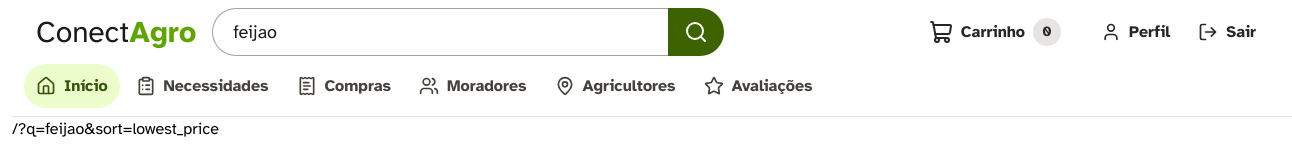
Test: HeaderSearch › keeps the order and the filters chosen in the catalog
This screenshot has width=1292, height=160.
Replace the text in the search field named "Buscar produto" with "couve": (440, 32) x1=212 y1=8 x2=668 y2=56
Then press Enter
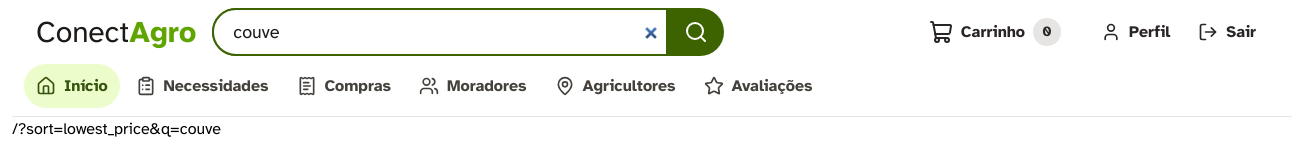
Expected: the text with test id "address" reads "/?sort=lowest_price&q=couve", x1=12 y1=119 x2=221 y2=139
